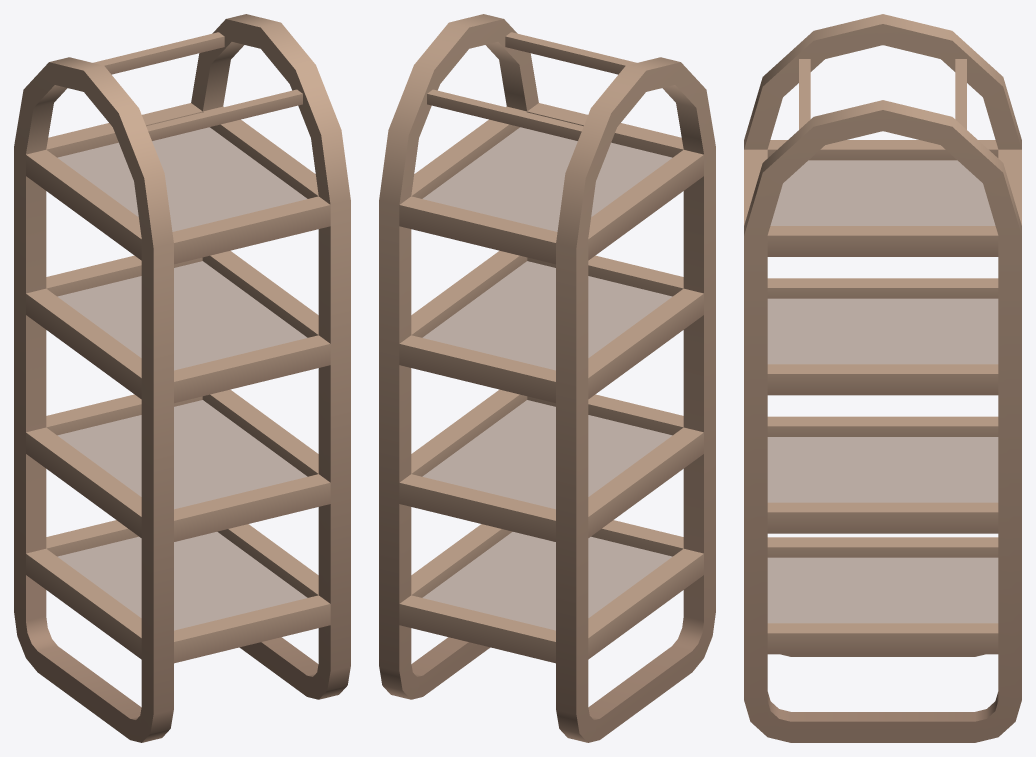
File: ashscozycorner (%secret).glb
3 renders of one model, left to right at view 1: azimuth 30°, elevation 25°; view 2: azimuth 150°, elevation 25°; view 3: azimuth 270°, elevation 25°, orthographic.
Parts seen in each view (by area): view 1: ashscozycorner (%secret); view 2: ashscozycorner (%secret); view 3: ashscozycorner (%secret).
Part boxes in pixels (left/top/right/bottom): ashscozycorner (%secret): left=14, top=14, right=350, bottom=742; ashscozycorner (%secret): left=379, top=14, right=715, bottom=742; ashscozycorner (%secret): left=744, top=14, right=1021, bottom=742.
Bounding box in the file's own units: 0.446 × 1.37 × 0.546.
